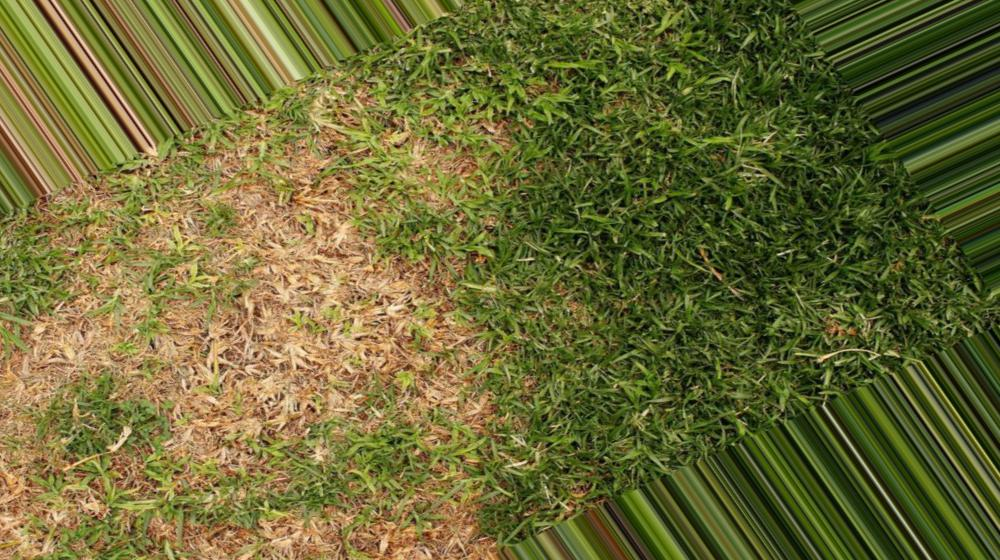patch: (70, 138, 466, 499), (21, 331, 479, 560), (76, 180, 470, 402), (17, 433, 458, 545)
